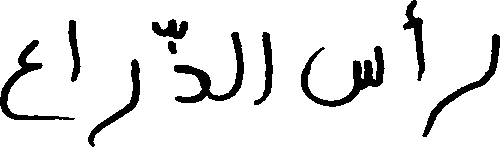أ: (401, 0, 426, 138)
ا: (259, 30, 274, 104), (67, 18, 80, 87)
ذ: (173, 17, 212, 104)
ر: (425, 31, 499, 136), (88, 56, 141, 144)
س: (299, 44, 386, 107)
ع: (0, 37, 42, 120)
ل: (230, 30, 246, 99)
